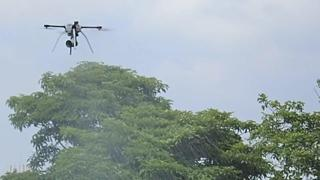UAV: (247, 16, 320, 152)
